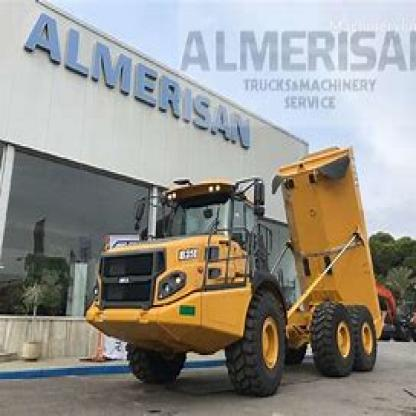dump_truck: (74, 120, 394, 390)
